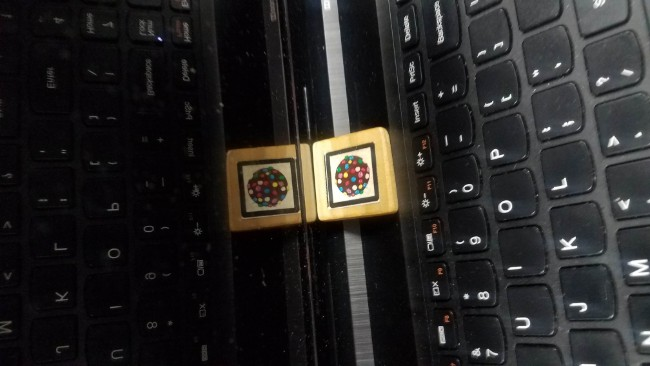cookie: (316, 134, 400, 217), (226, 148, 302, 226)
